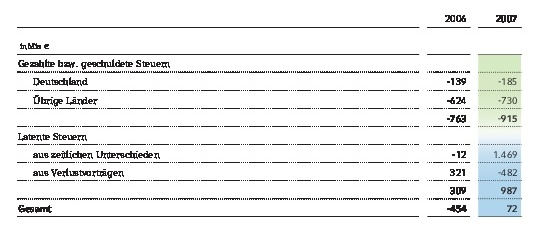table: (0, 0, 533, 232)
